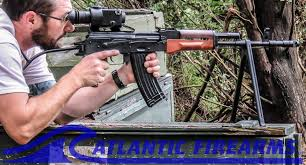Gun: (94, 24, 286, 88)
